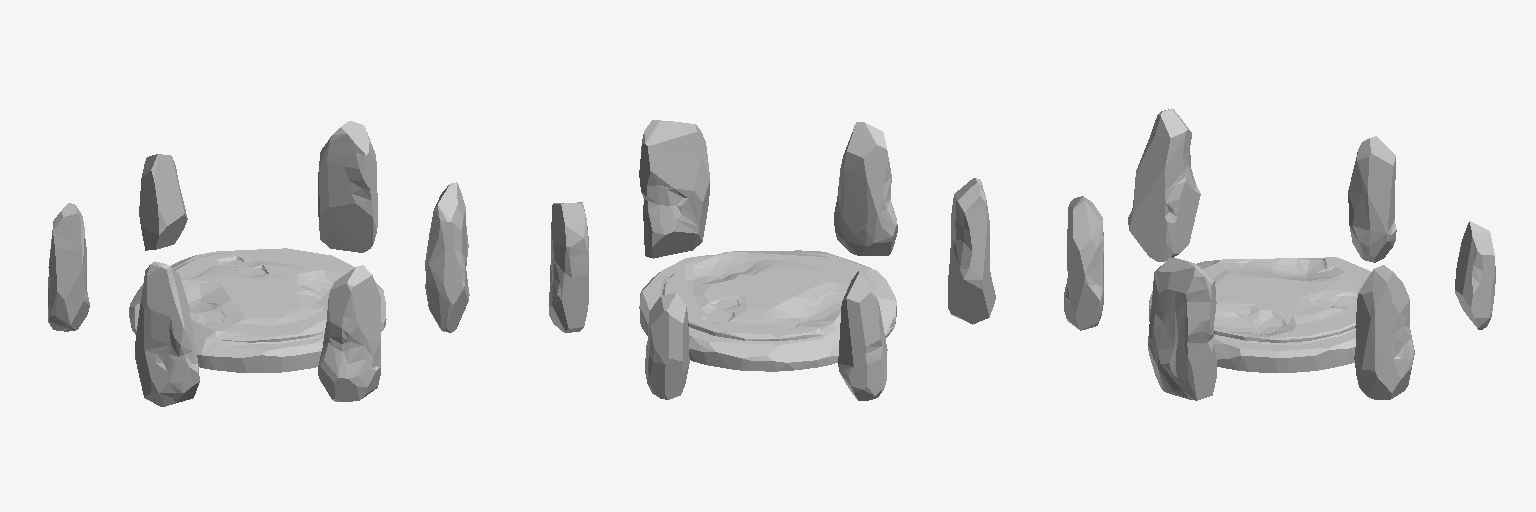
File: teleExit.obj
3 renders of one model, left to right at view 1: azimuth 30°, elevation 25°; view 2: azimuth 150°, elevation 25°; view 3: azimuth 270°, elevation 25°, orthographic.
Parts seen in each view (by area): view 1: portalmonolith_4_Mesh.004; view 2: portalmonolith_4_Mesh.004; view 3: portalmonolith_4_Mesh.004.
Part boxes in pixels (x1,y1,x2,y2): portalmonolith_4_Mesh.004: (48, 121, 469, 406); portalmonolith_4_Mesh.004: (549, 120, 995, 400); portalmonolith_4_Mesh.004: (1064, 108, 1495, 400).
Bounding box in the file's own units: 2.82 × 1.16 × 3.14.